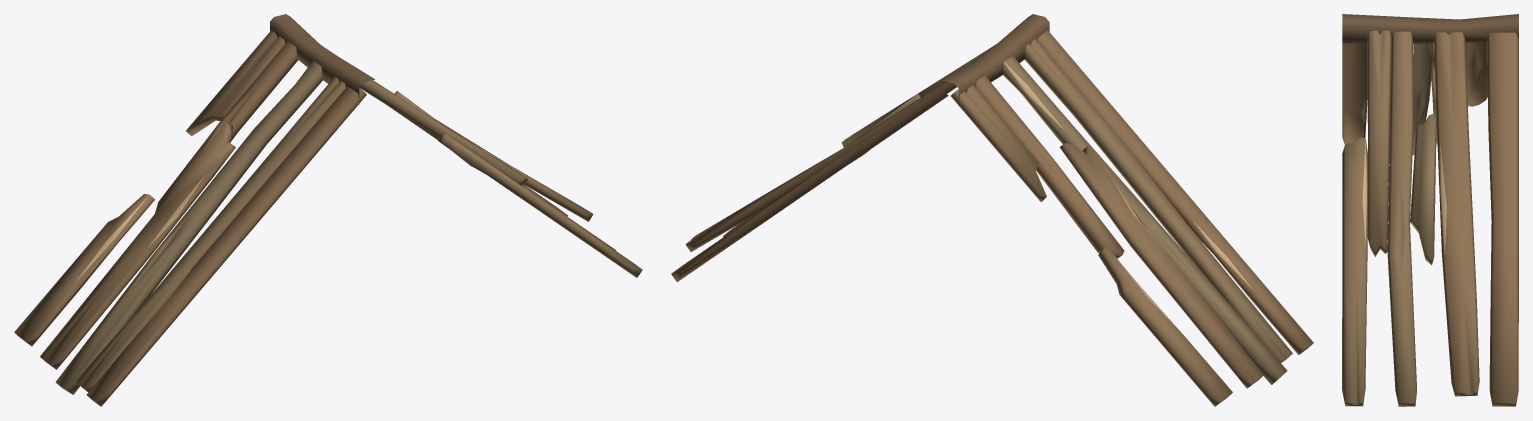
File: rpgpp_av_roof_02_9x4x3_a.gltf
3 views of the same model, side by side, from view 1: azimuth 30°, elevation 25°; view 2: azimuth 150°, elevation 25°; view 3: azimuth 270°, elevation 25° (orthographic). The views are drawn at different scales.
Visible parts, largest first — view 1: rpgpp_av_roof_02_9x4x3_a; view 2: rpgpp_av_roof_02_9x4x3_a; view 3: rpgpp_av_roof_02_9x4x3_a.
Boxes of the visible parts, x1,y1,x2,y2 form: rpgpp_av_roof_02_9x4x3_a: (14,14,642,406); rpgpp_av_roof_02_9x4x3_a: (671,14,1313,406); rpgpp_av_roof_02_9x4x3_a: (1342,14,1518,406).
Size of the model in its own units: 0.1077 by 0.05 by 0.03.
Materials: 1 (1 with a texture image).
